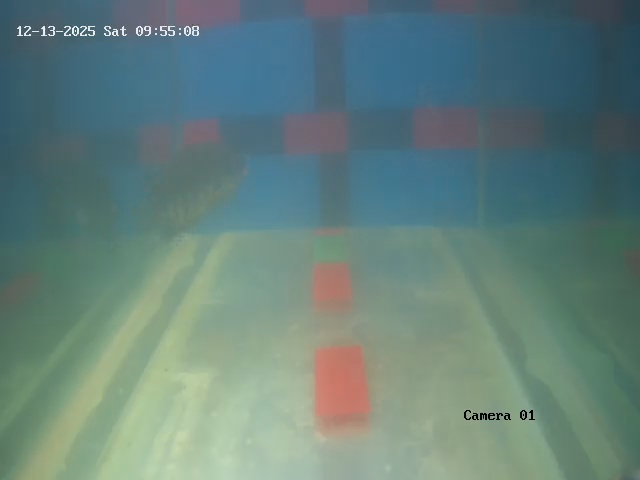fish: (137, 130, 251, 252)
